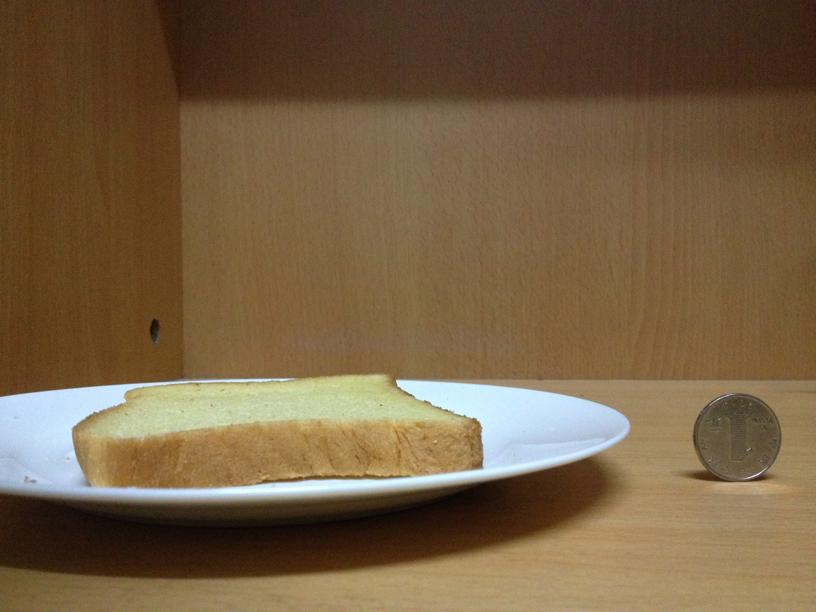bread: (82, 374, 482, 487)
coin: (690, 390, 780, 480)
